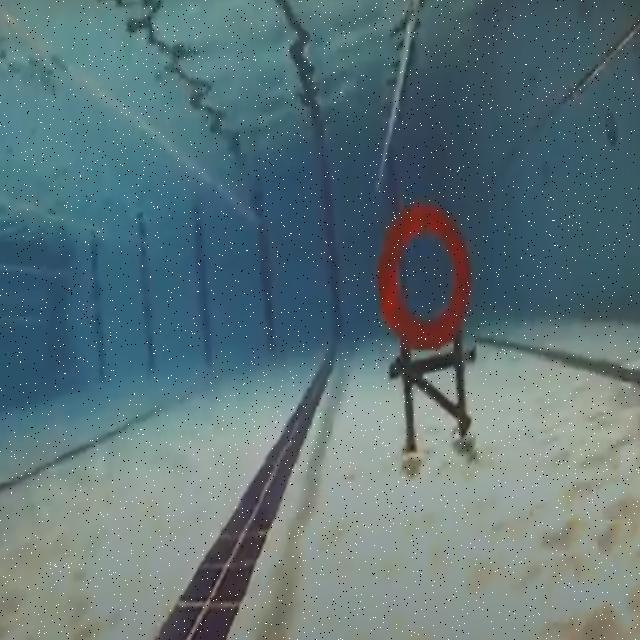Circle: (376, 201, 473, 345)
